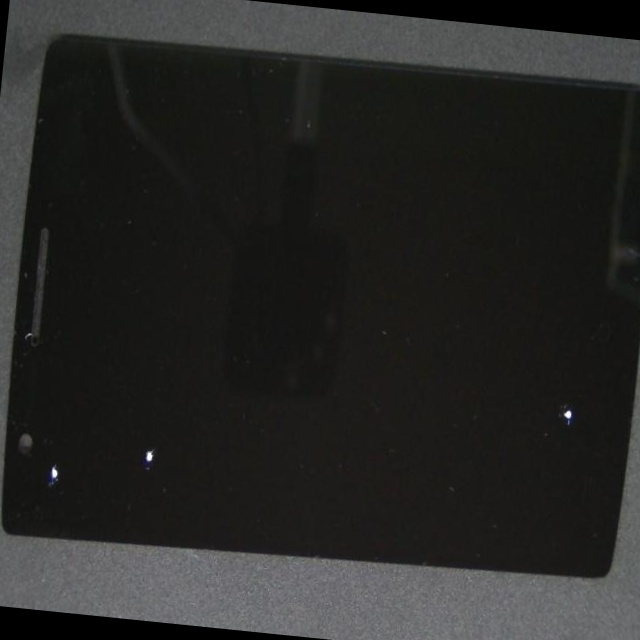stain: (268, 146, 640, 584), (53, 169, 266, 629), (0, 174, 122, 614)
